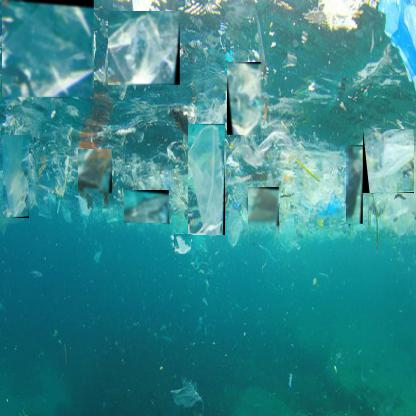plastic-bag: (2, 0, 95, 98)
waste: (108, 11, 181, 86), (188, 124, 226, 236), (363, 129, 415, 194), (228, 62, 263, 136), (3, 135, 30, 219), (78, 150, 113, 196), (124, 190, 171, 224), (346, 145, 364, 225), (248, 187, 280, 227), (174, 234, 192, 255)
